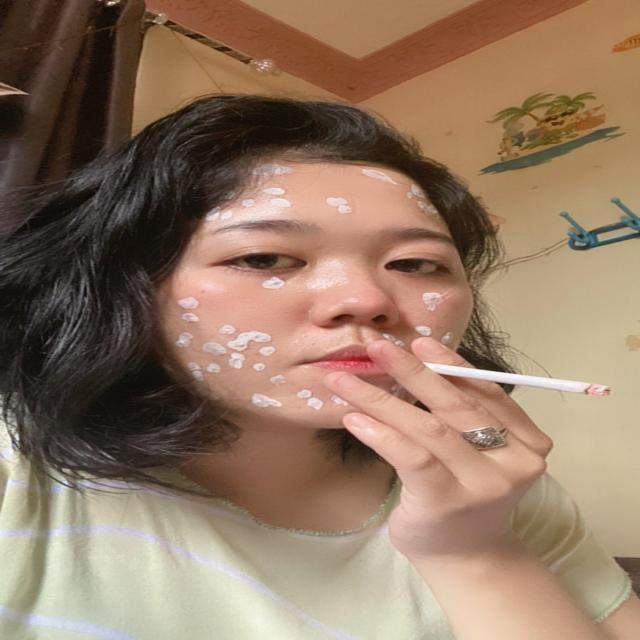rokok: (408, 358, 618, 404)
